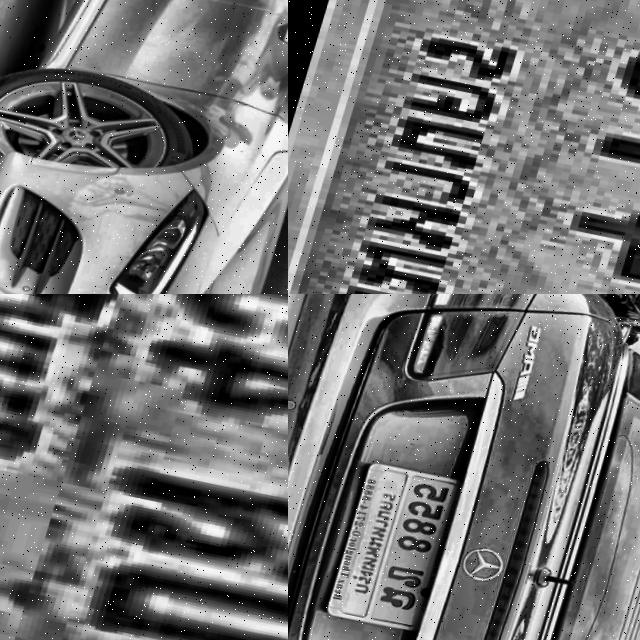license-plate: (288, 0, 640, 294), (0, 294, 288, 640), (329, 461, 472, 636)
